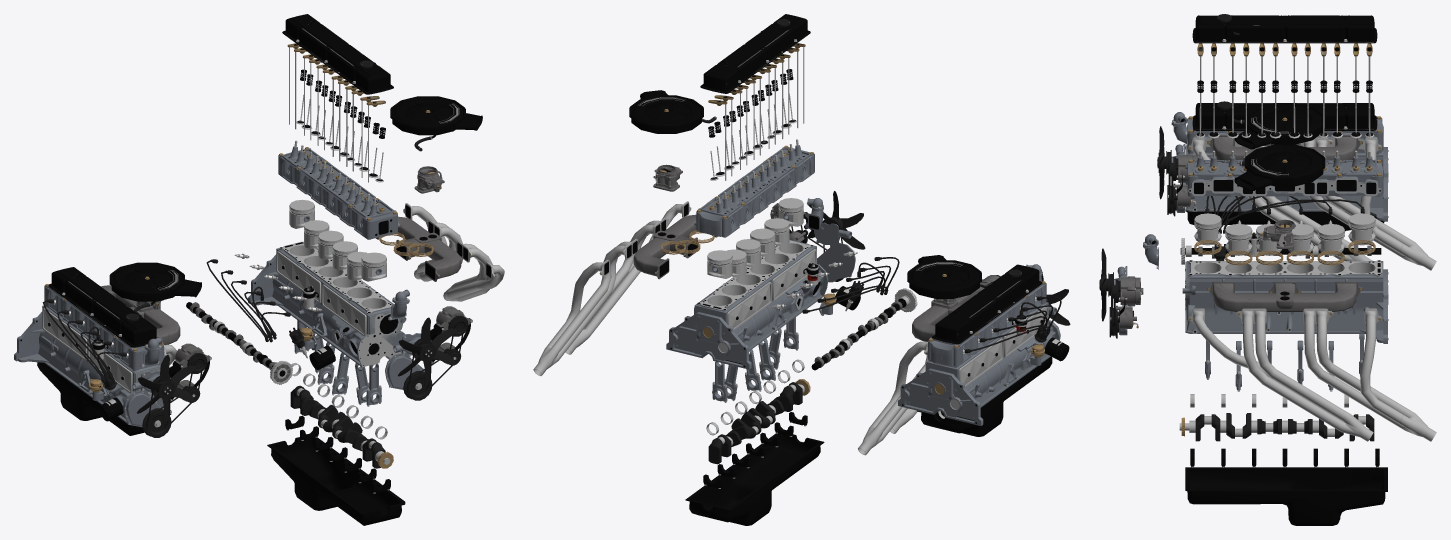
Rendered from tcc-fundamentos_motor.glb.
3 renders of one model, left to right at view 1: azimuth 30°, elevation 25°; view 2: azimuth 150°, elevation 25°; view 3: azimuth 270°, elevation 25°, orthographic. The views are drawn at different scales.
Visible parts, largest first — view 1: motor, bloco, carter, cabecote, polias, tampa_valvula, pistao, panela, coletor_escape, virabrequim, coletor_admissao, biela (+9 smaller); view 2: motor, bloco, carter, coletor_escape, cabecote, tampa_valvula, pistao, polias, panela, virabrequim, biela, coletor_admissao (+9 smaller); view 3: motor, bloco, coletor_escape, carter, cabecote, tampa_valvula, pistao, coletor_admissao, panela, virabrequim, polias, aneis (+10 smaller).
Part boxes in pixels (x1,y1,x2,y2): motor: (14, 262, 211, 437); bloco: (248, 241, 406, 367); carter: (267, 437, 405, 525); cabecote: (278, 140, 399, 239); polias: (385, 306, 472, 400); tampa_valvula: (282, 14, 393, 94); pistao: (289, 199, 386, 281); panela: (390, 96, 482, 151); coletor_escape: (403, 203, 504, 301); virabrequim: (290, 385, 393, 468); coletor_admissao: (376, 216, 461, 281); biela: (294, 320, 381, 406); motor: (858, 255, 1070, 455); bloco: (666, 239, 828, 369); carter: (685, 433, 824, 525); coletor_escape: (533, 201, 691, 375); cabecote: (694, 139, 814, 237); tampa_valvula: (700, 14, 810, 93); pistao: (707, 198, 803, 278); polias: (770, 191, 865, 282); panela: (629, 90, 716, 133); virabrequim: (708, 379, 810, 464); biela: (712, 317, 798, 402); coletor_admissao: (633, 214, 717, 279); motor: (1157, 101, 1436, 270); bloco: (1182, 260, 1388, 343); coletor_escape: (1188, 308, 1436, 441); carter: (1185, 467, 1387, 525); cabecote: (1187, 150, 1383, 196); tampa_valvula: (1192, 14, 1377, 43); pistao: (1194, 213, 1375, 255); coletor_admissao: (1207, 281, 1362, 311); panela: (1234, 144, 1325, 191); virabrequim: (1179, 413, 1374, 441); polias: (1099, 248, 1143, 338); aneis: (1194, 240, 1375, 265).
Size of the model in its own units: 1.84 by 1.92 by 1.17.
7 materials, 7 textured.
